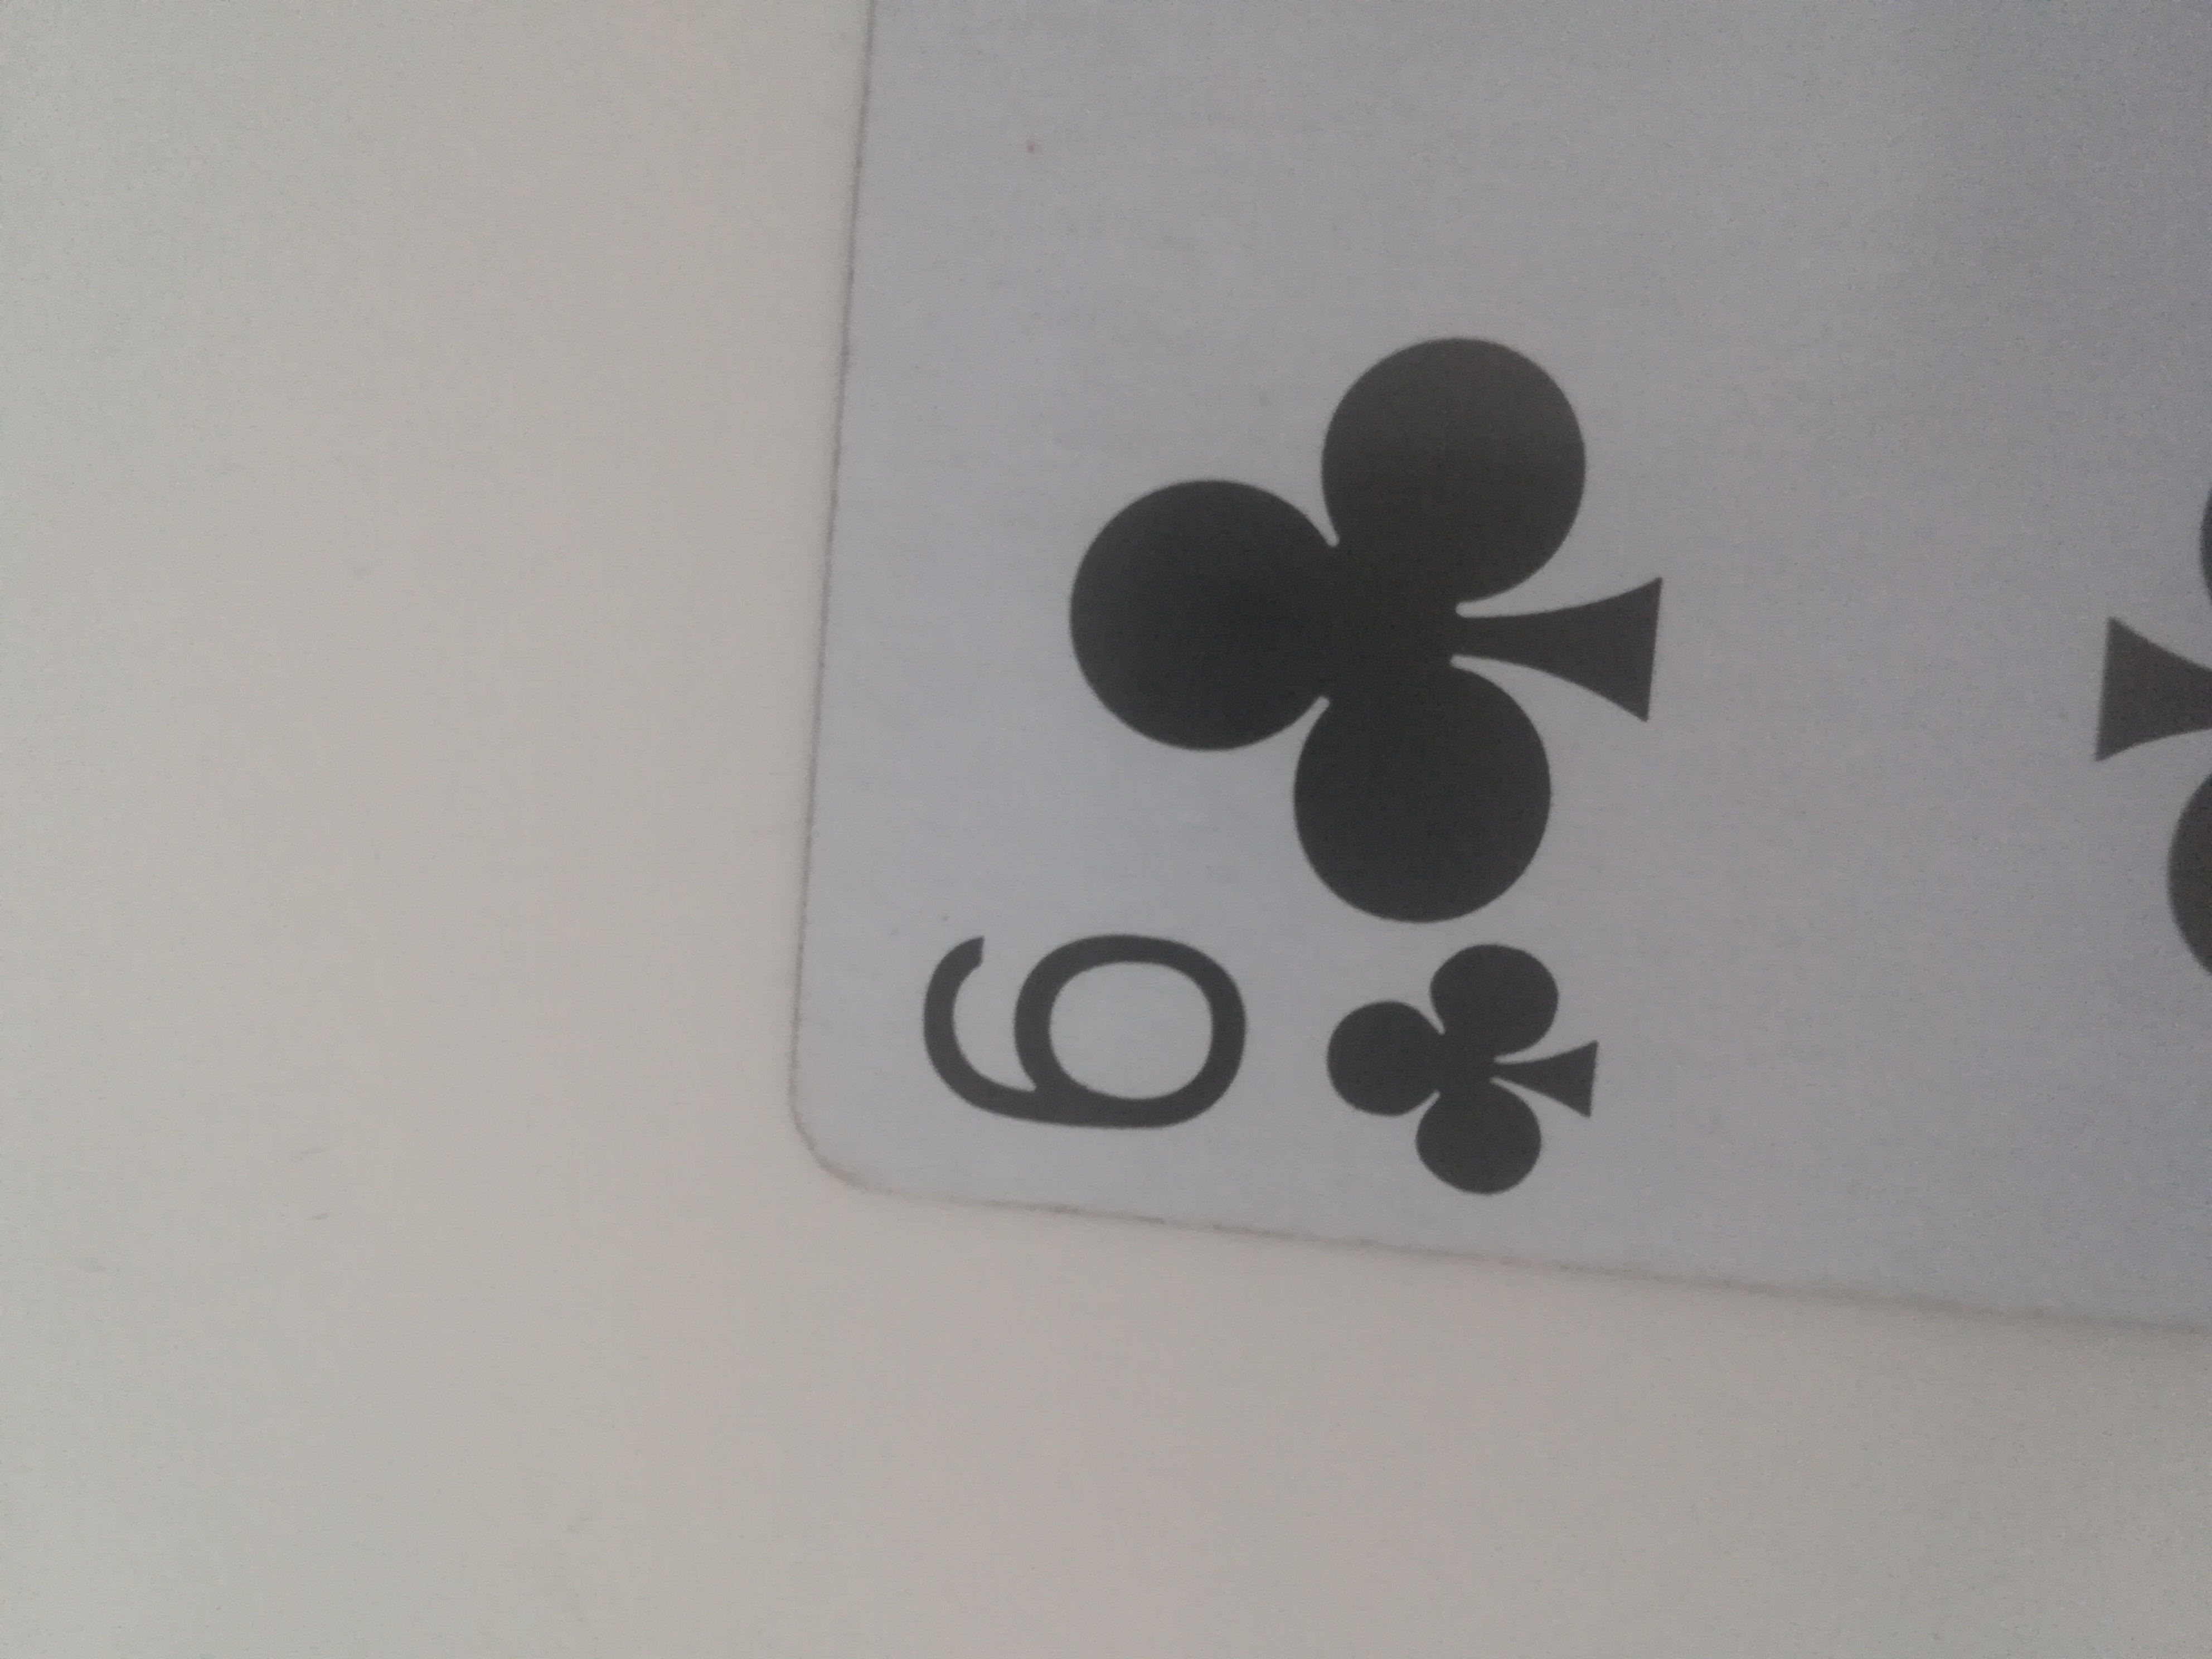6C: (787, 0, 2205, 1349)
